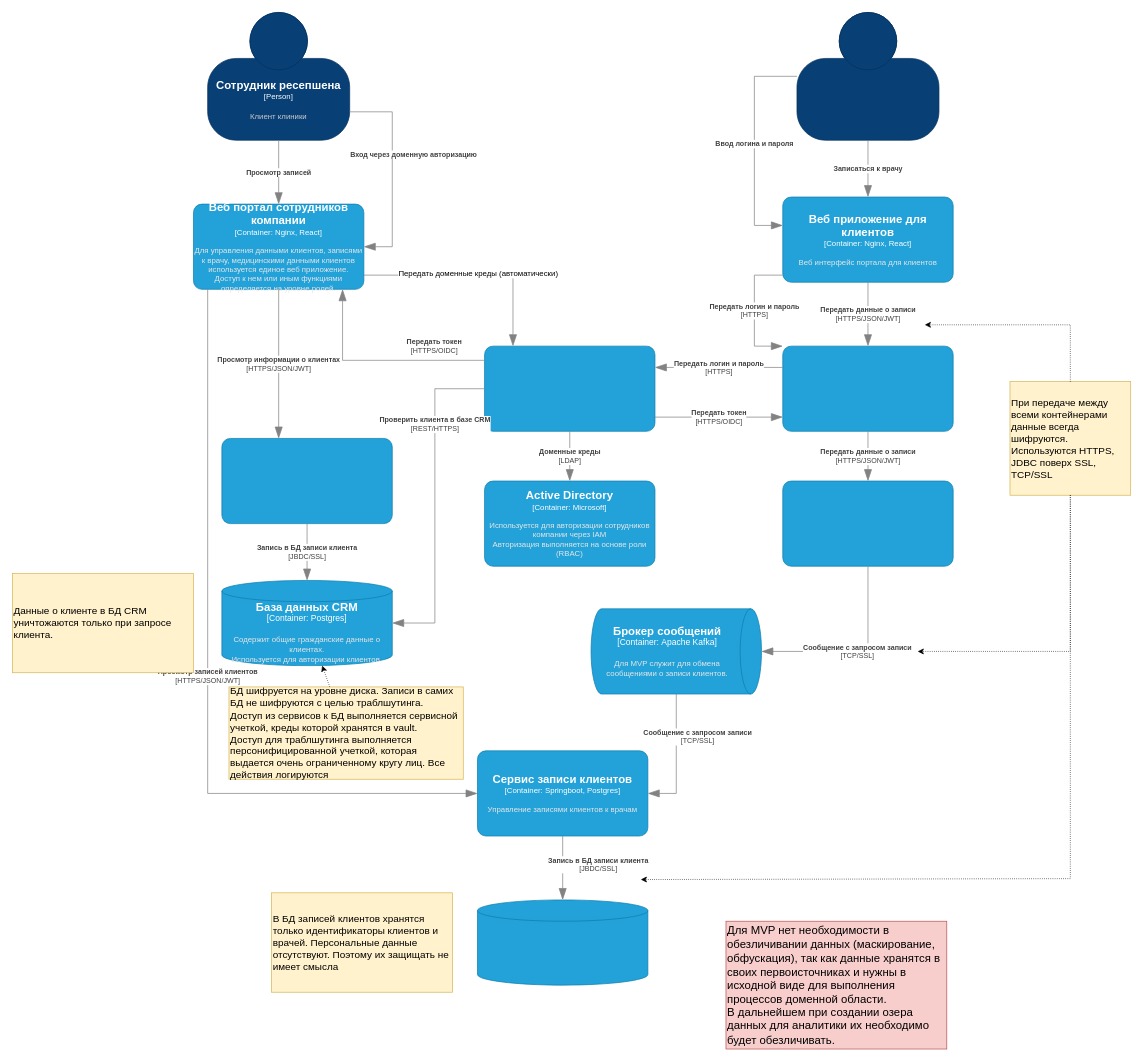
The diagram is 1143 pixels wide and 1061 high, and some of its shapes have lost their labels. Each missing label, with the centre of its shape:
API Gateway [Container: Kong]: point 867,388
CRM [Container: Springboot] Управление общегражданскими данными клиентов: point 306,481
IAM [Container: Keycloak] Сервер авторизации: point 569,388
База данных записей клиентов [Container: Postgres]: point 562,942
Бекенд портала клиентов [Container: Springboot]: point 867,523
Клиент [Person] Клиент клиники: point 867,76
